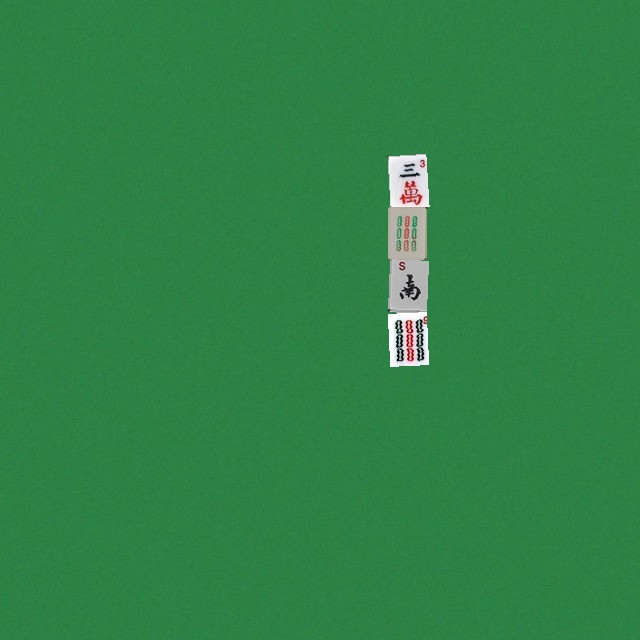tile: (387, 153, 426, 206), (387, 206, 426, 259), (387, 259, 426, 312), (387, 312, 426, 365)
